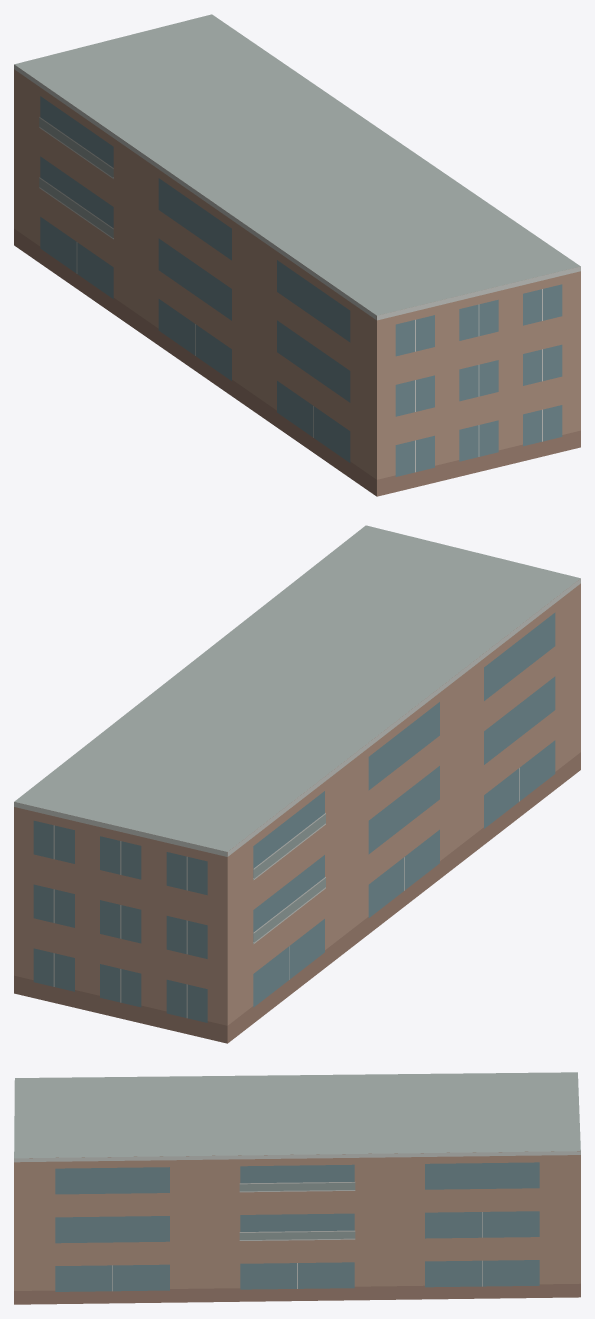
The model's file is survey-upis-33005457.glb.
3 renders of one model, top to bottom at view 1: azimuth 30°, elevation 25°; view 2: azimuth 150°, elevation 25°; view 3: azimuth 270°, elevation 25°, orthographic. The views are drawn at different scales.
Parts seen in each view (by area): view 1: survey-upis-33005457.tmp; view 2: survey-upis-33005457.tmp; view 3: survey-upis-33005457.tmp.
Boxes of the visible parts, box(x1,y1,x2,y2) form: survey-upis-33005457.tmp: box(14, 14, 580, 496); survey-upis-33005457.tmp: box(14, 525, 580, 1043); survey-upis-33005457.tmp: box(14, 1072, 580, 1304).
Bounding box in the file's own units: 11.55 × 9.15 × 32.14.
